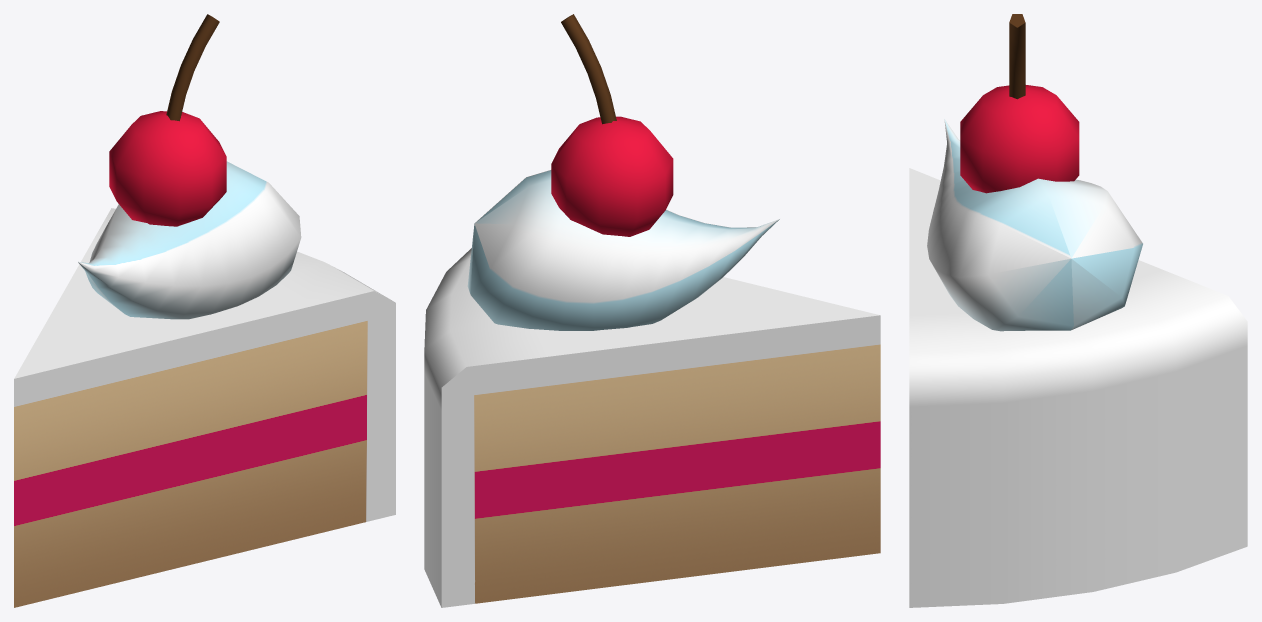
File: cakeVanilla.fbx
3 renders of one model, left to right at view 1: azimuth 30°, elevation 25°; view 2: azimuth 150°, elevation 25°; view 3: azimuth 270°, elevation 25°, orthographic. The views are drawn at different scales.
Visible parts, largest first — view 1: cake_van; view 2: cake_van; view 3: cake_van.
Part boxes in pixels (x1=…): cake_van: x1=14, y1=14, x2=395, y2=607; cake_van: x1=424, y1=14, x2=880, y2=607; cake_van: x1=909, y1=14, x2=1247, y2=607.
Bounding box in the file's own units: 55.43 × 68.62 × 40.17.
1 material, 1 textured.
